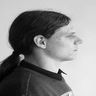ear: (31, 28, 50, 53)
